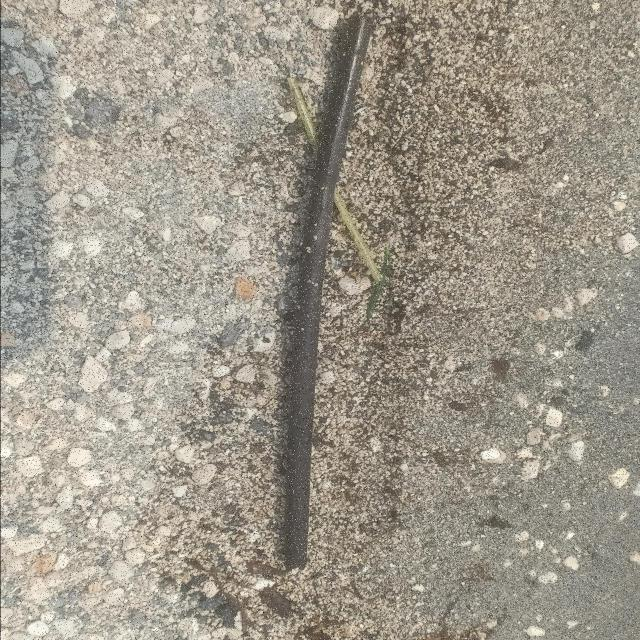wood_waste: (280, 14, 377, 575)
